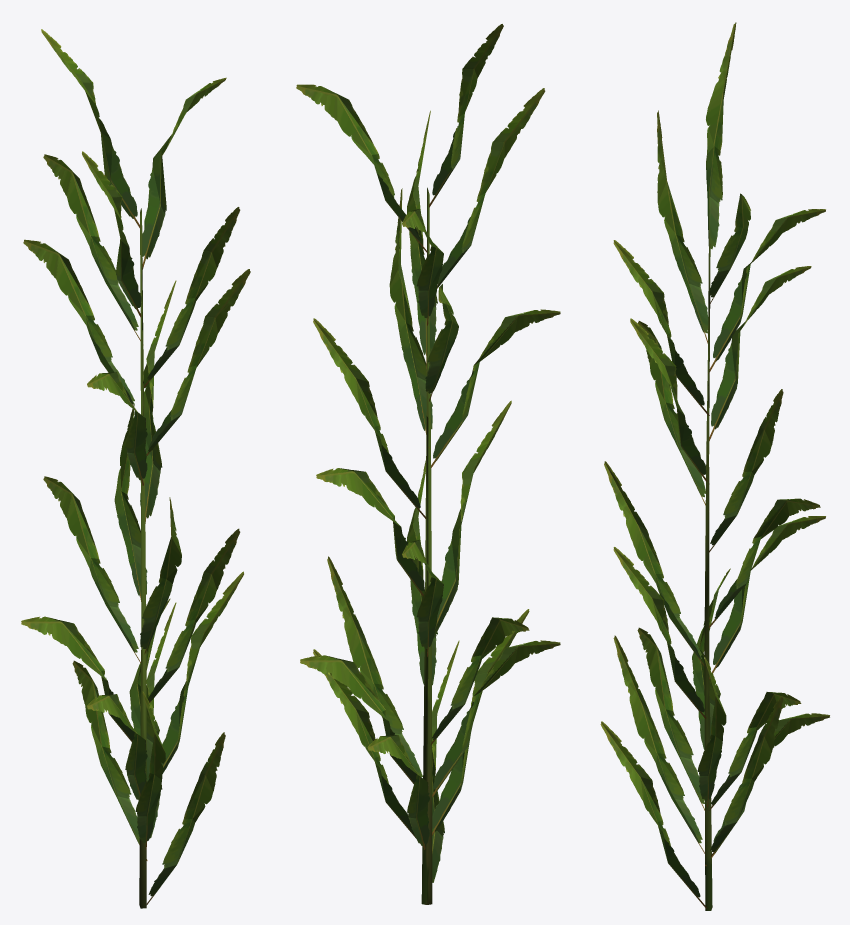
File: M_haicao01.FBX
3 renders of one model, left to right at view 1: azimuth 30°, elevation 25°; view 2: azimuth 150°, elevation 25°; view 3: azimuth 270°, elevation 25°, orthographic. The views are drawn at different scales.
Parts seen in each view (by area): view 1: M_haicao01; view 2: M_haicao01; view 3: M_haicao01.
Part boxes in pixels (bbox=[...]): M_haicao01: bbox=[21, 29, 250, 908]; M_haicao01: bbox=[296, 24, 560, 904]; M_haicao01: bbox=[600, 22, 829, 910].
Size of the model in its own units: 7.54 by 28.75 by 7.3.
